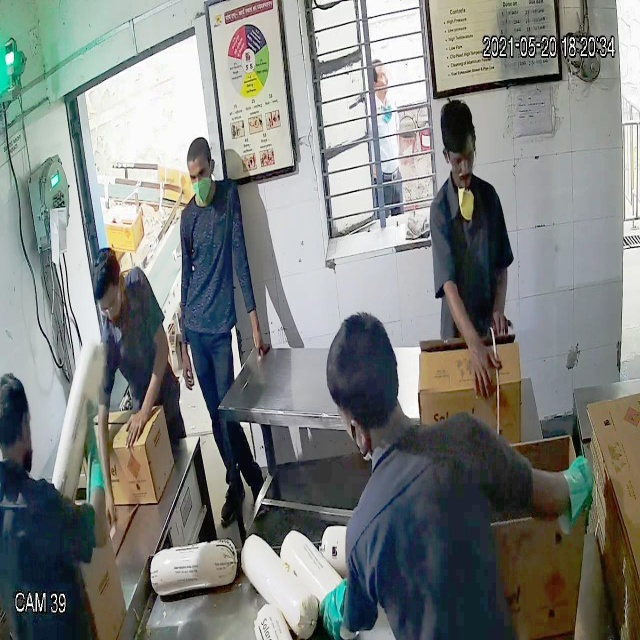Gafas: (439, 137, 481, 174)
Sin_gafas: (185, 160, 211, 182)
